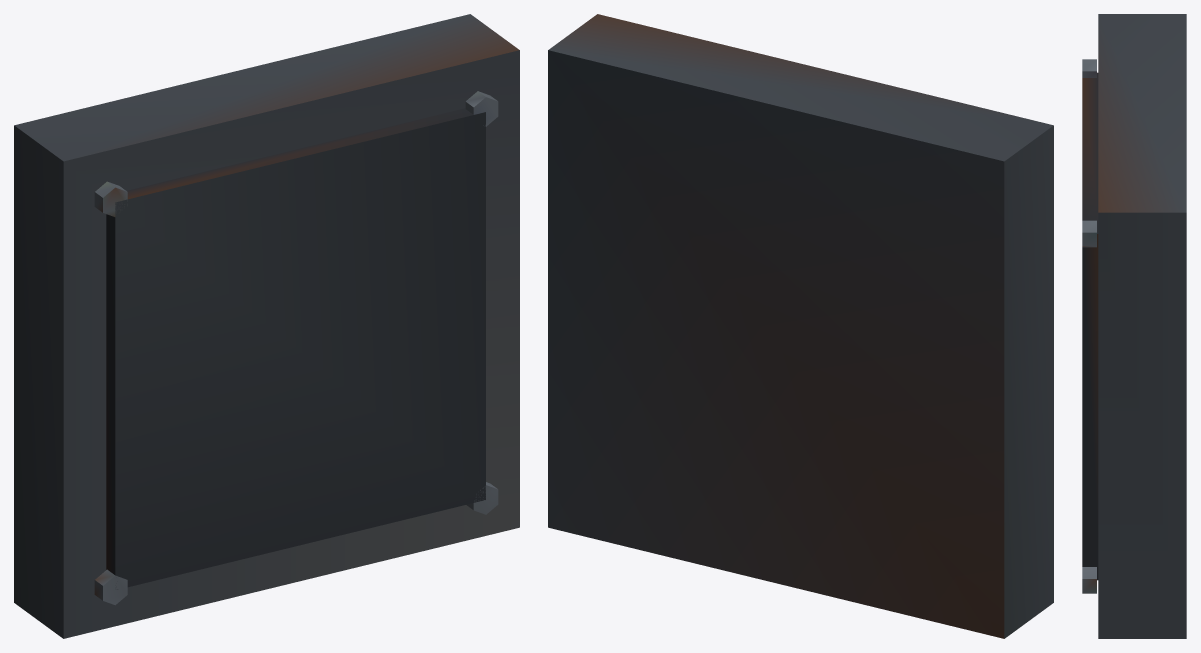
Rendered from tile_wall.glb.
3 views of the same model, side by side, from view 1: azimuth 30°, elevation 25°; view 2: azimuth 150°, elevation 25°; view 3: azimuth 270°, elevation 25° (orthographic). The views are drawn at different scales.
Parts seen in each view (by area): view 1: tile_wall; view 2: tile_wall; view 3: tile_wall.
Part boxes in pixels (bbox=[...]): tile_wall: bbox=[14, 14, 519, 638]; tile_wall: bbox=[548, 14, 1053, 638]; tile_wall: bbox=[1082, 14, 1186, 638].
Bounding box in the file's own units: 32 × 32 × 7.1.
